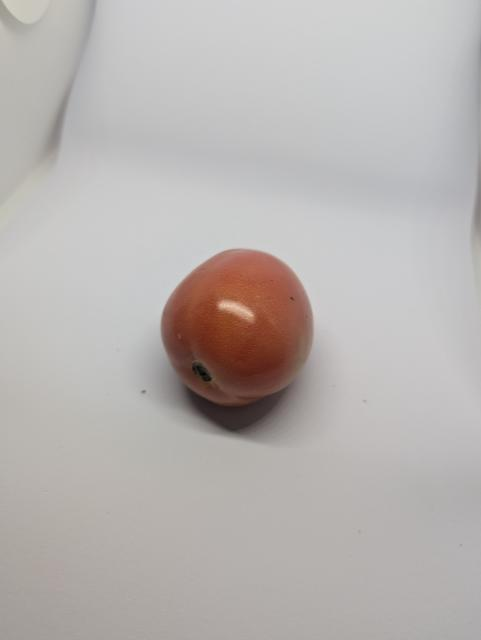red: (145, 236, 342, 421)
